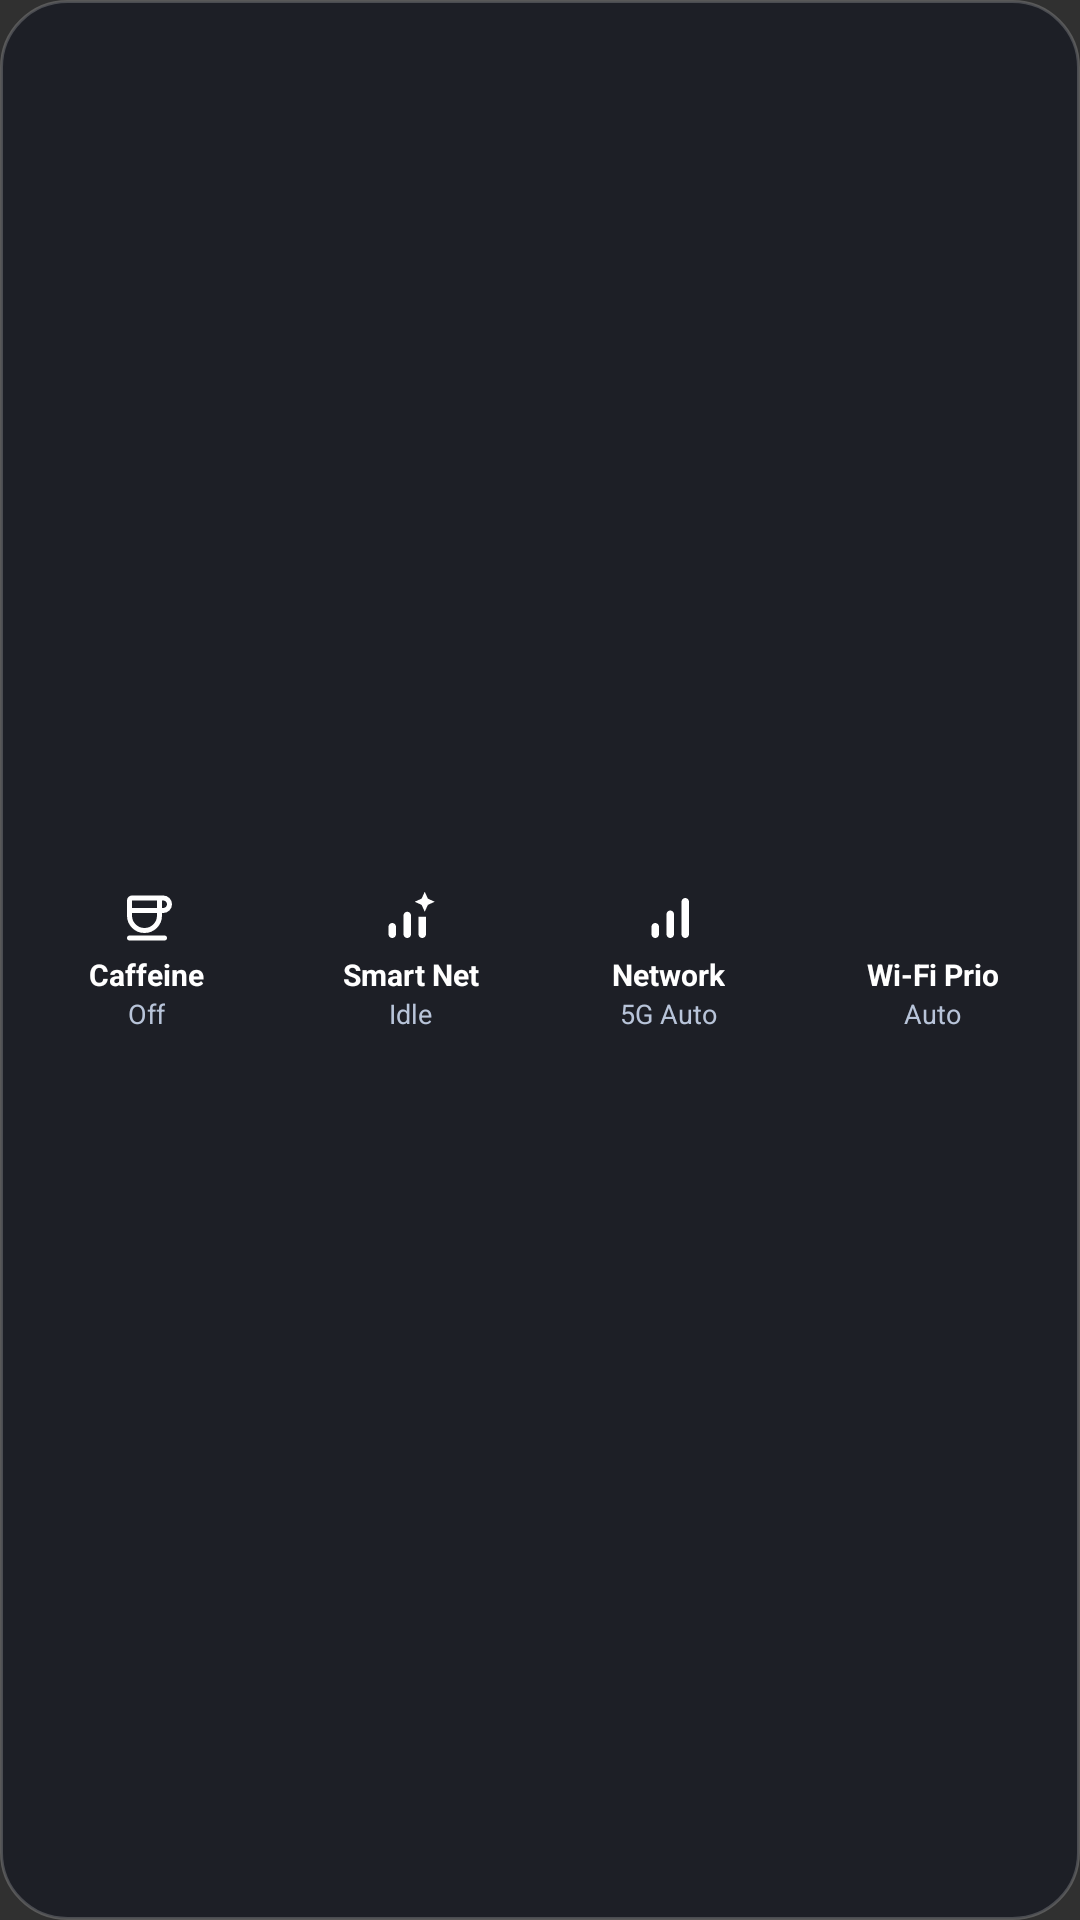

Where icons sit on this 1080 x 1920 app screen, as (x1, y1, x2, y2):
coffee: (127, 895, 172, 941)
signal cellular: (651, 898, 689, 938)
